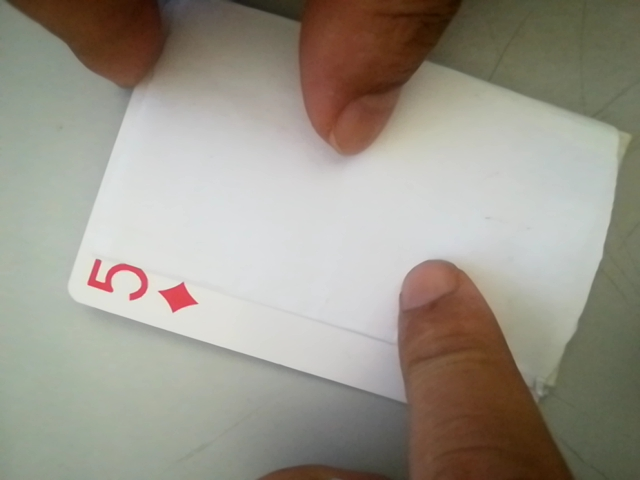fk 5: (75, 253, 201, 322)
